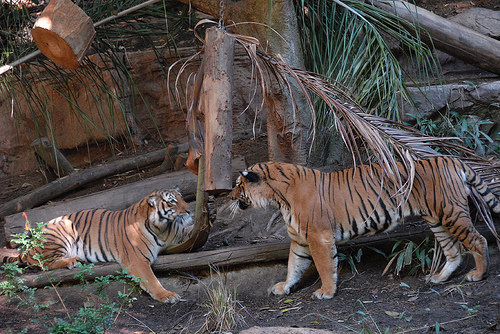Tigre: (234, 152, 491, 280), (24, 183, 218, 296)
